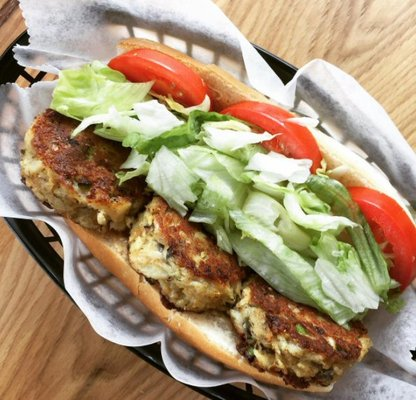burger: (0, 213, 164, 344)
